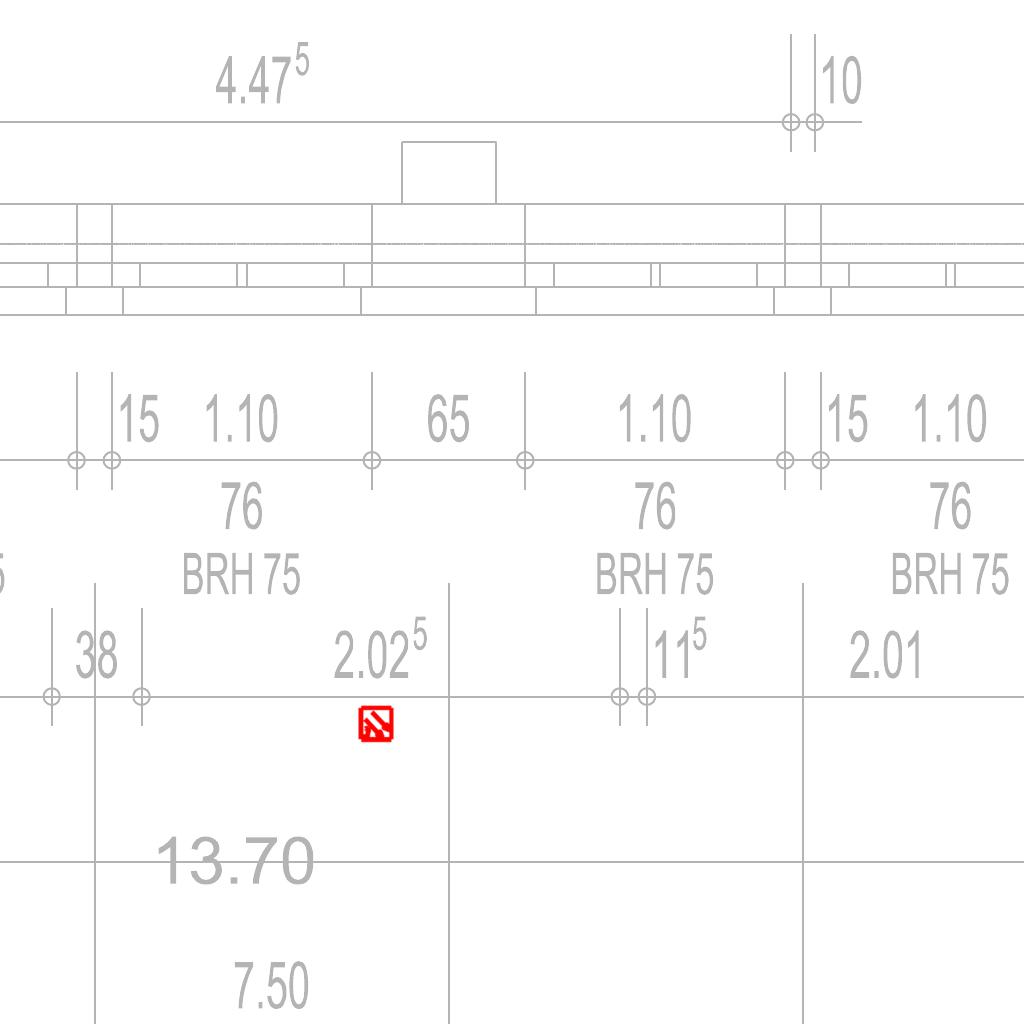OT_Multisensormelder_(Kombination_RMO_WMD): (348, 697, 404, 753)
